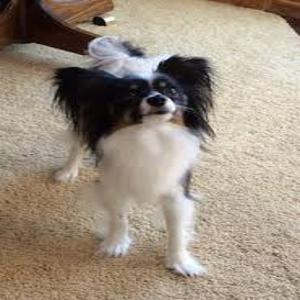yell: (53, 36, 215, 276)
